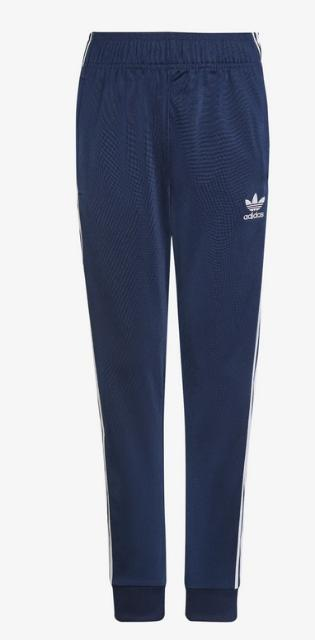Adidas: (242, 189, 268, 227), (244, 191, 266, 212), (244, 210, 266, 222)
